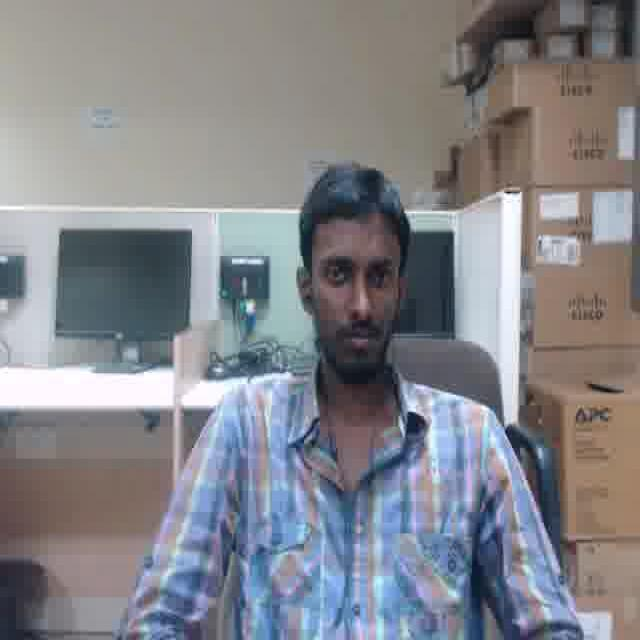Engaged: (309, 216, 394, 367)
